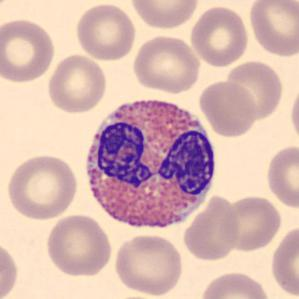Eosinophil: (76, 86, 222, 240)
RBC: (4, 152, 80, 221), (111, 232, 186, 297), (43, 212, 114, 278), (130, 33, 203, 95), (181, 193, 243, 263), (188, 4, 251, 67), (223, 58, 285, 122), (45, 52, 109, 114), (73, 2, 138, 62), (0, 16, 57, 84), (219, 193, 283, 253), (197, 78, 258, 138), (246, 0, 298, 58), (268, 222, 298, 298), (264, 143, 298, 210), (127, 0, 201, 30), (198, 269, 272, 299), (0, 238, 21, 299), (288, 82, 299, 147), (109, 294, 163, 299), (0, 0, 15, 18)
